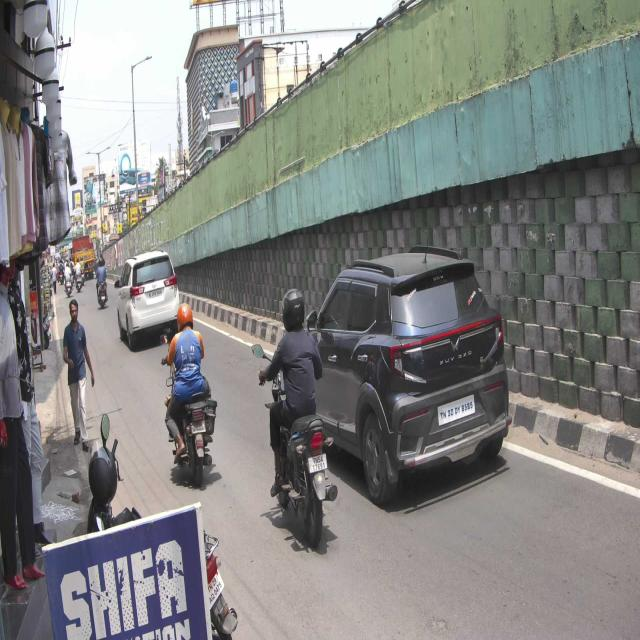single_rider: (256, 287, 339, 552), (161, 300, 221, 489)
